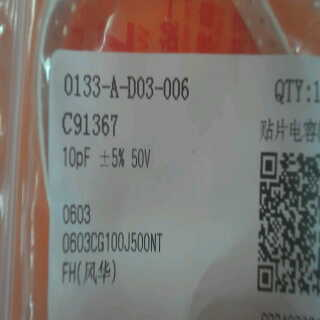10pF: (58, 143, 98, 171)
